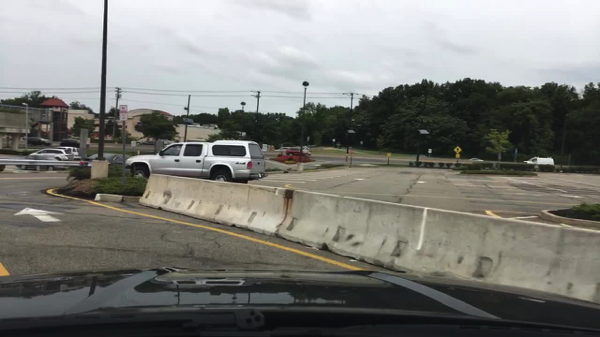car: (125, 140, 268, 185), (15, 148, 68, 172), (79, 152, 131, 167), (58, 145, 80, 161), (520, 157, 552, 166), (23, 138, 52, 147), (61, 137, 81, 149), (289, 146, 312, 154), (334, 140, 343, 149), (274, 146, 289, 151), (469, 157, 482, 162)
traffic sign: (118, 104, 127, 122), (452, 146, 460, 159)
